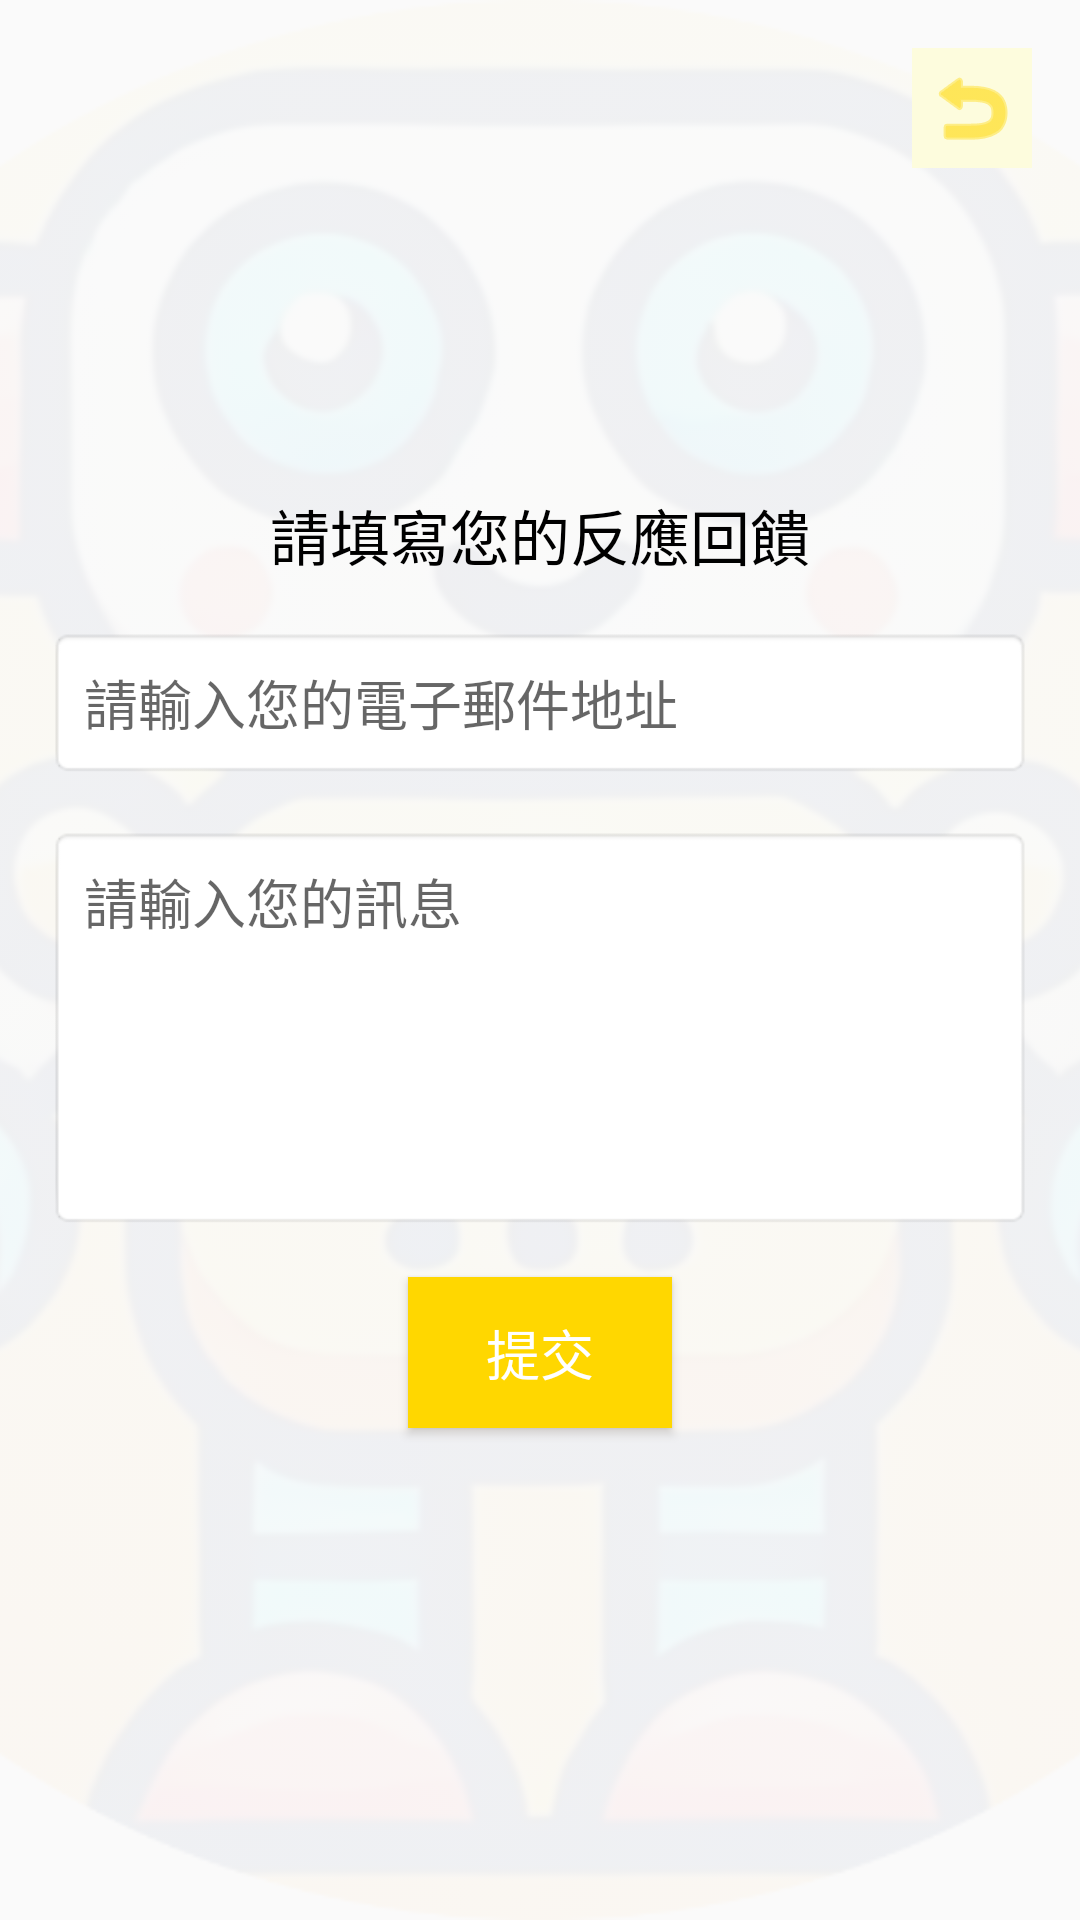

Screen size 1080 × 1920. Icon name, then its center in pixels as (x=x, y=y):
revert: (x=972, y=108)
